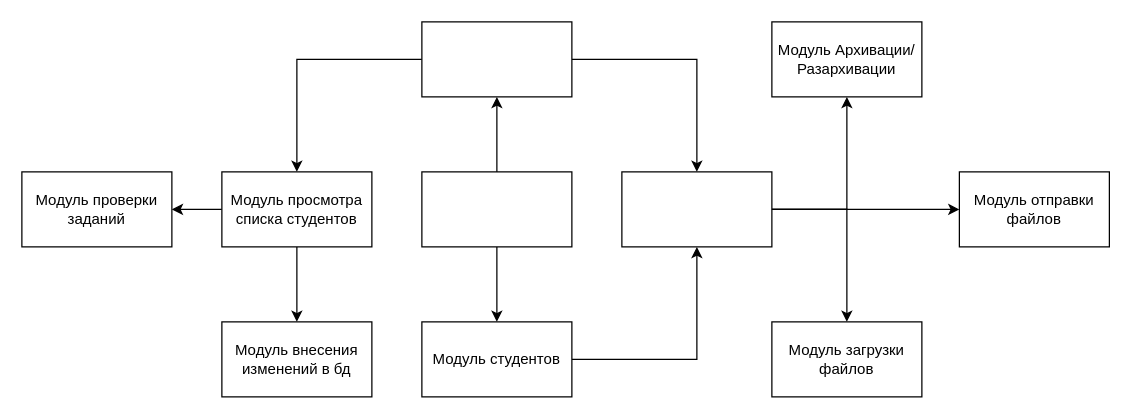
The diagram is 1131 pixels wide and 419 high, and some of its shapes have lost their labels. Here are the shapes that lost their labels. From the top down, the centre of each, then its label:
At point (496, 59): "Модуль преподавателей".
At point (496, 209): "Модуль Авторизации".
At point (696, 209): "Модуль просмотра файлов".
